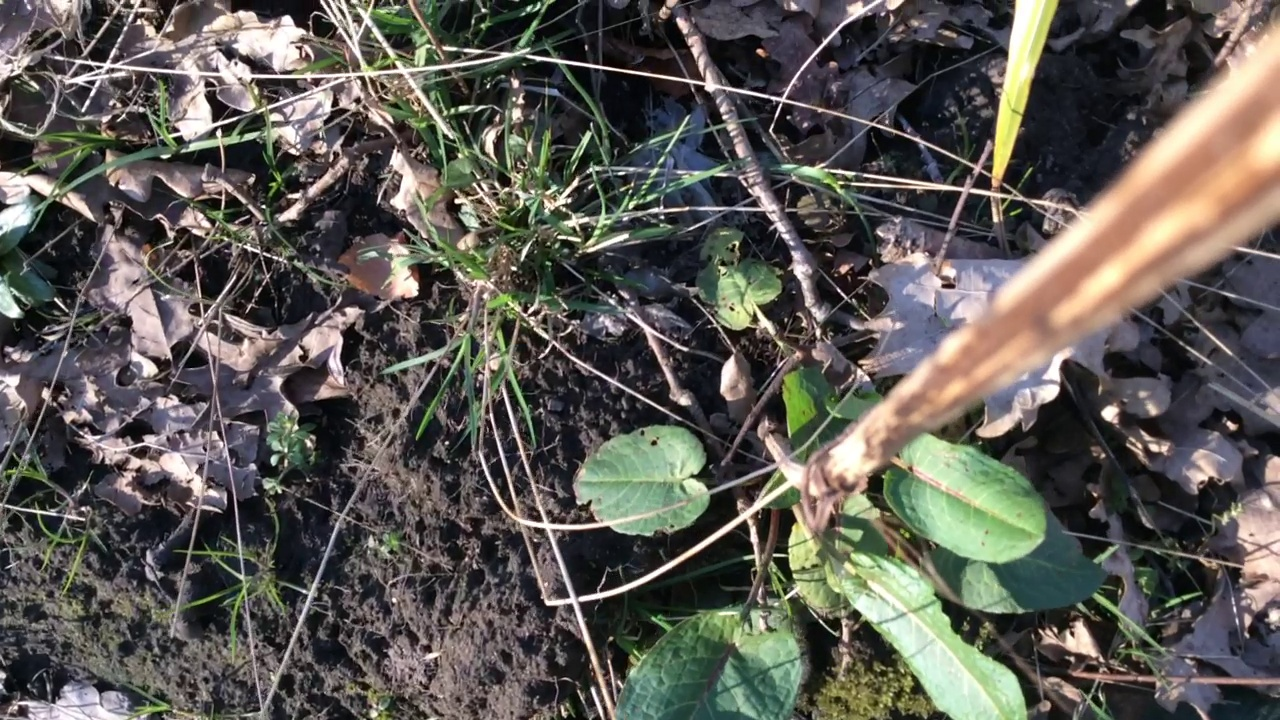rumex: (573, 226, 1114, 720)
